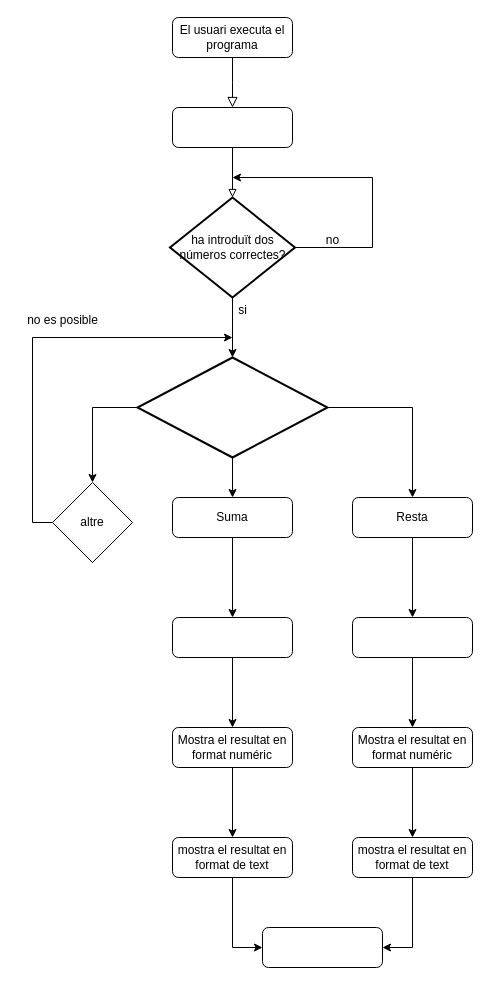
Some shapes in this 490 by 985 pixel diagram are drawn without their labels. Each missing label, with the box of its shape:
El programa finalitza: (262, 926, 382, 968)
El programa realitza la resta: (352, 616, 472, 658)
El programa realitza la suma: (172, 616, 292, 658)
Que operació realitzarà?: (136, 356, 328, 458)
Realitzo una operació: (172, 106, 292, 148)
